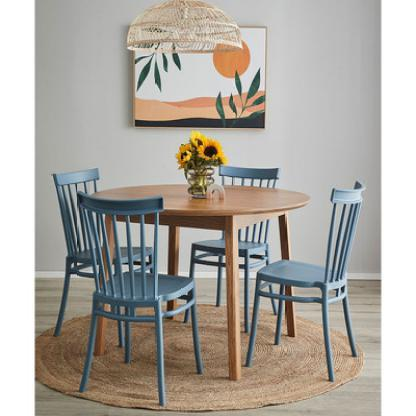chair: (74, 194, 198, 403), (275, 174, 366, 387), (191, 154, 276, 298), (46, 167, 113, 338)
table: (75, 179, 317, 379)
